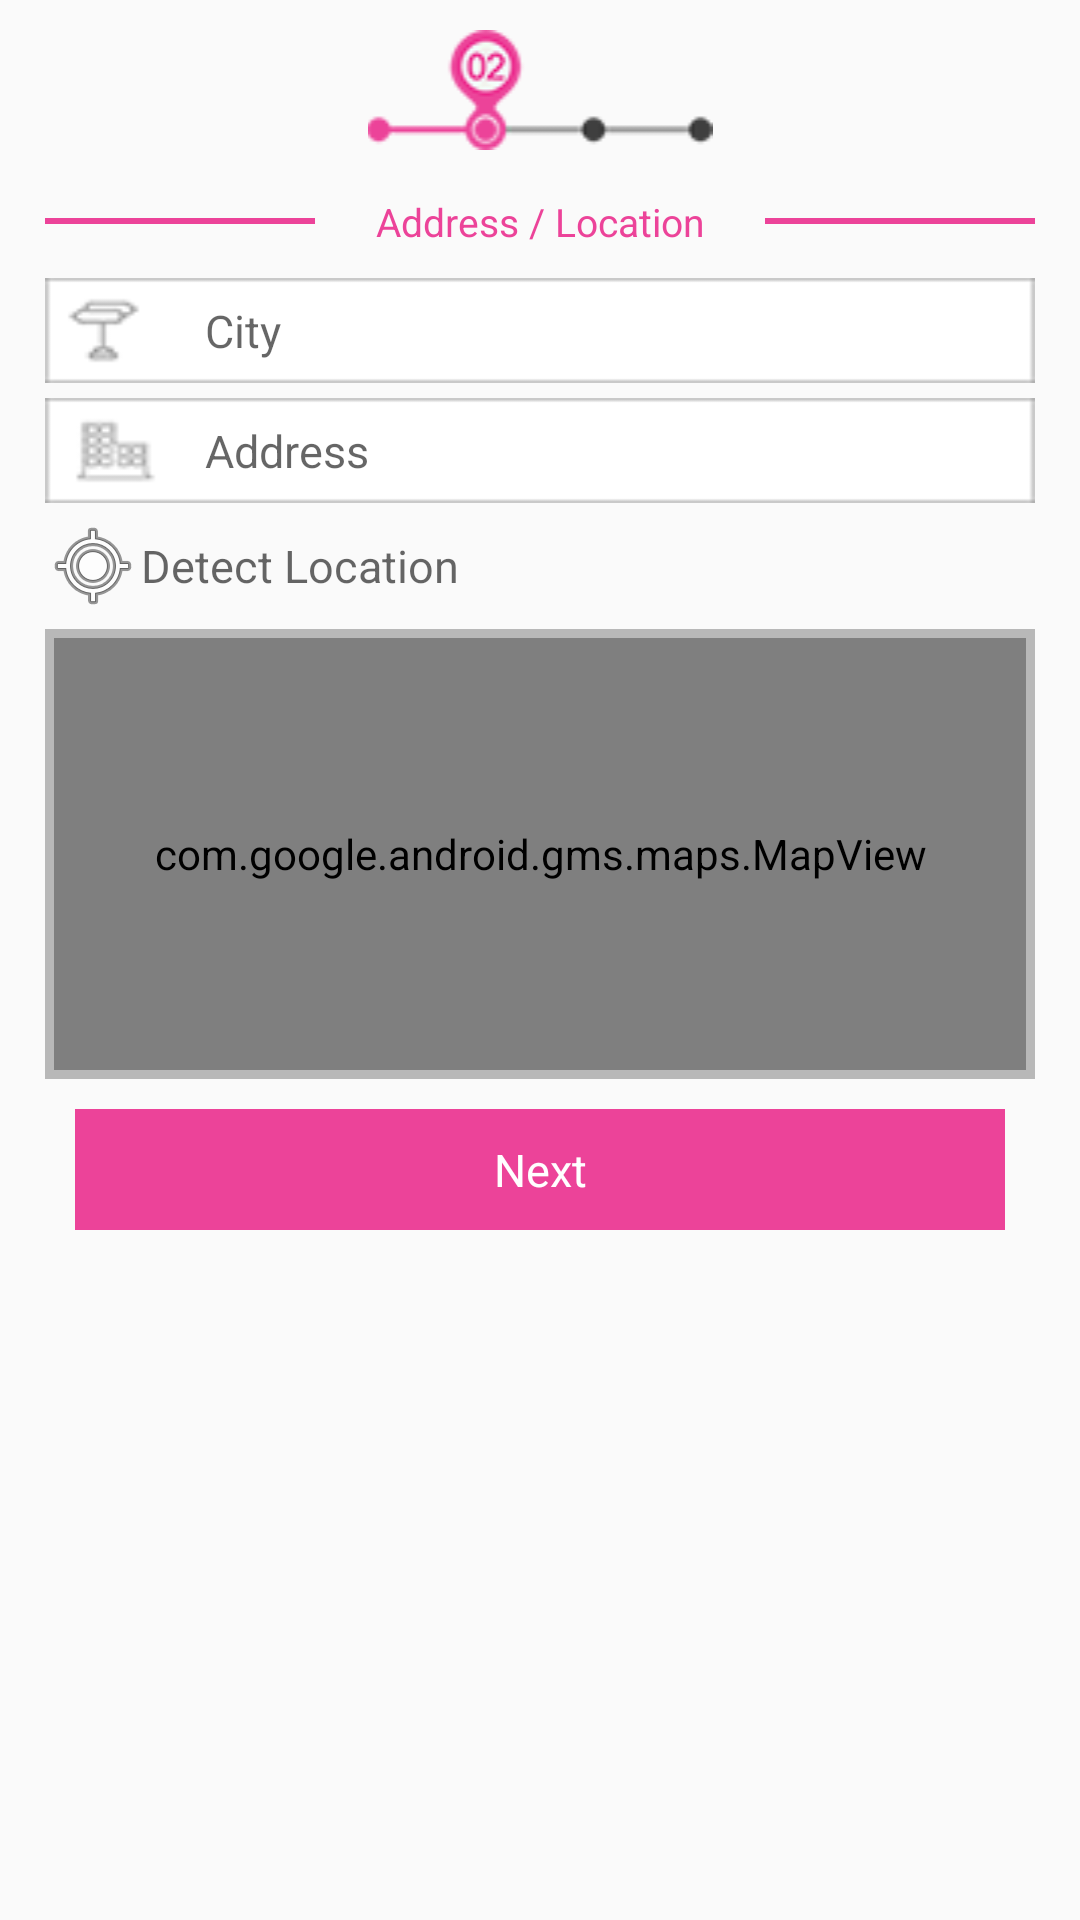

Named icons in this screenshot (1080 × 1920) and their bounding boxes, bbox=[x1, y1, x2, y2]:
mylocation: bbox=[55, 528, 131, 604]
